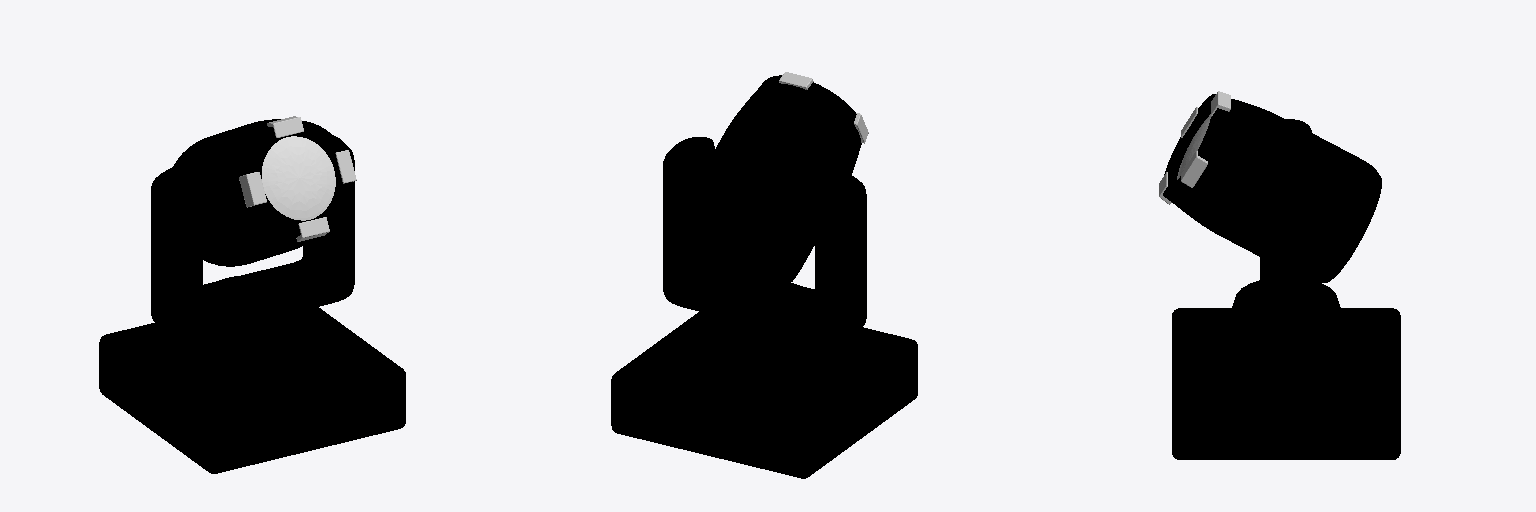
The model's file is Spotlight.obj.
3 views of the same model, side by side, from view 1: azimuth 30°, elevation 25°; view 2: azimuth 150°, elevation 25°; view 3: azimuth 270°, elevation 25° (orthographic).
Visible parts, largest first — view 1: spotlightc, spotlightb, spotlight; view 2: spotlightc, spotlight, spotlightb; view 3: spotlightc, spotlight, spotlightb.
Part boxes in pixels (bbox=[...]): spotlightc: bbox=[99, 307, 405, 473]; spotlightb: bbox=[151, 135, 354, 363]; spotlight: bbox=[173, 116, 356, 266]; spotlightc: bbox=[611, 312, 917, 478]; spotlight: bbox=[677, 72, 868, 293]; spotlightb: bbox=[663, 137, 866, 367]; spotlightc: bbox=[1172, 308, 1400, 459]; spotlight: bbox=[1159, 91, 1381, 282]; spotlightb: bbox=[1231, 119, 1340, 365].
Bounding box in the file's own units: 0.1395 × 0.2128 × 0.1472.